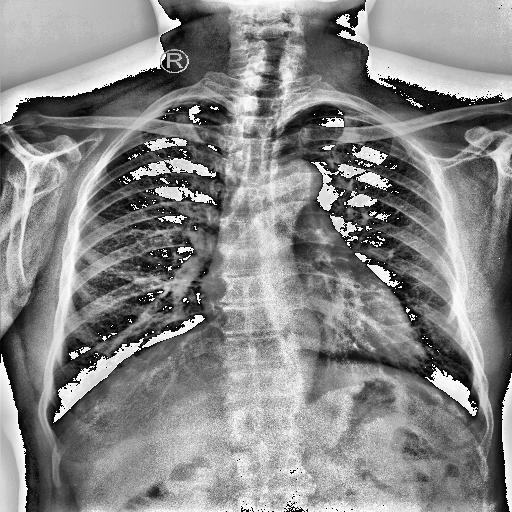0- Aortic enlargement: (275, 156, 324, 214)
10- Pleural effusion: (38, 407, 69, 434), (41, 408, 71, 432), (464, 402, 484, 430), (467, 406, 485, 431)
11- Pleural thickening: (38, 407, 69, 434), (41, 408, 71, 432), (464, 402, 484, 430), (467, 406, 485, 431)
9- Other lesion: (212, 155, 272, 345)
